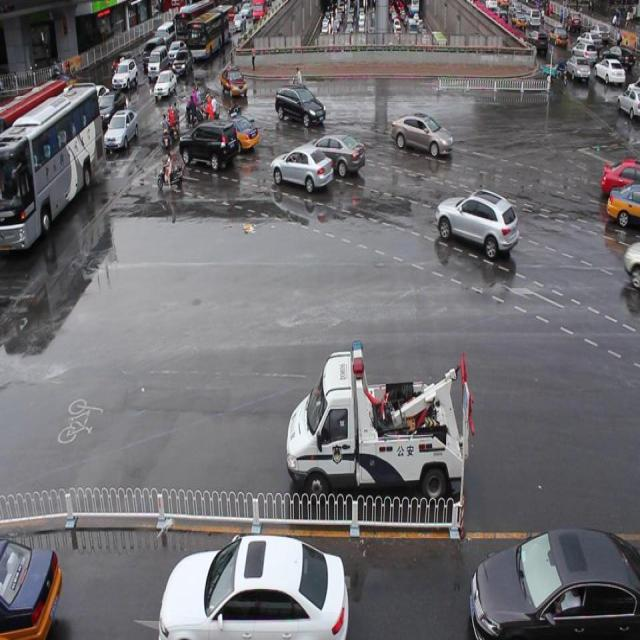bus: (285, 338, 464, 498)
car: (433, 187, 518, 261), (269, 142, 333, 196), (390, 111, 452, 158), (304, 131, 364, 177), (274, 84, 326, 128), (604, 179, 640, 230), (213, 114, 259, 152), (600, 160, 640, 200), (219, 66, 247, 100)
truck: (179, 118, 237, 168)
